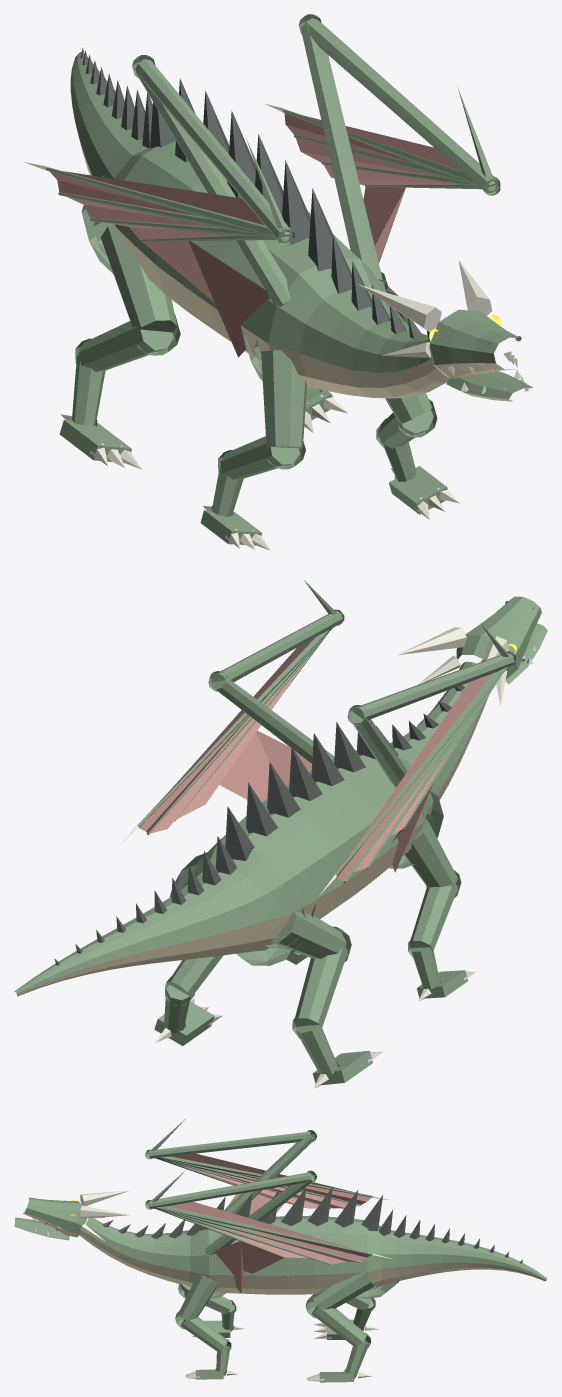
File: dragons-and-wyverns-western-dragon-crouched-38ccec8f__36703.glb
The picture shows the model from 3 angles, top to bottom: view 1: azimuth 30°, elevation 25°; view 2: azimuth 150°, elevation 25°; view 3: azimuth 270°, elevation 25°; orthographic projection. The views are drawn at different scales.
Visible parts, largest first — view 1: western-dragon-crouched; view 2: western-dragon-crouched; view 3: western-dragon-crouched.
Part boxes in pixels (bbox=[...]): western-dragon-crouched: bbox=[24, 14, 533, 550]; western-dragon-crouched: bbox=[14, 579, 547, 1088]; western-dragon-crouched: bbox=[14, 1119, 547, 1382].
Size of the model in its own units: 1.79 by 3.08 by 6.86.
